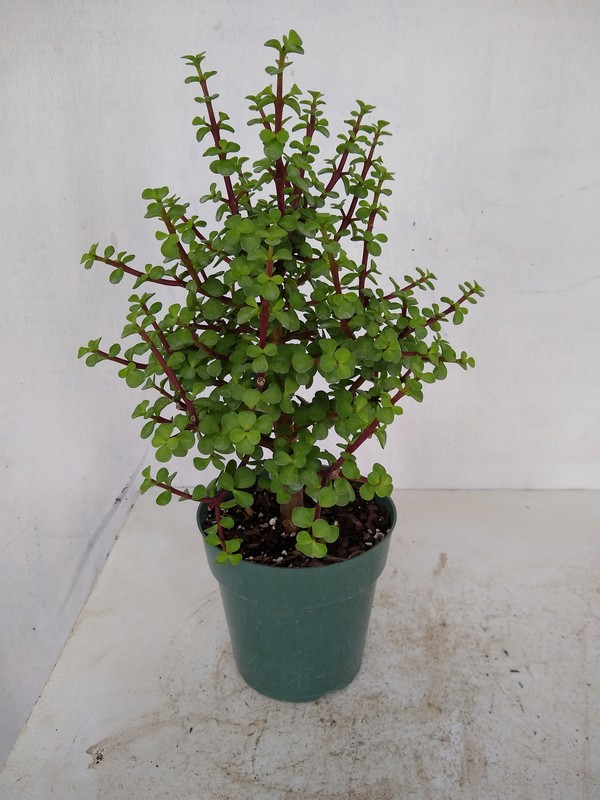plant: (76, 29, 488, 569)
pot: (195, 479, 398, 705)
